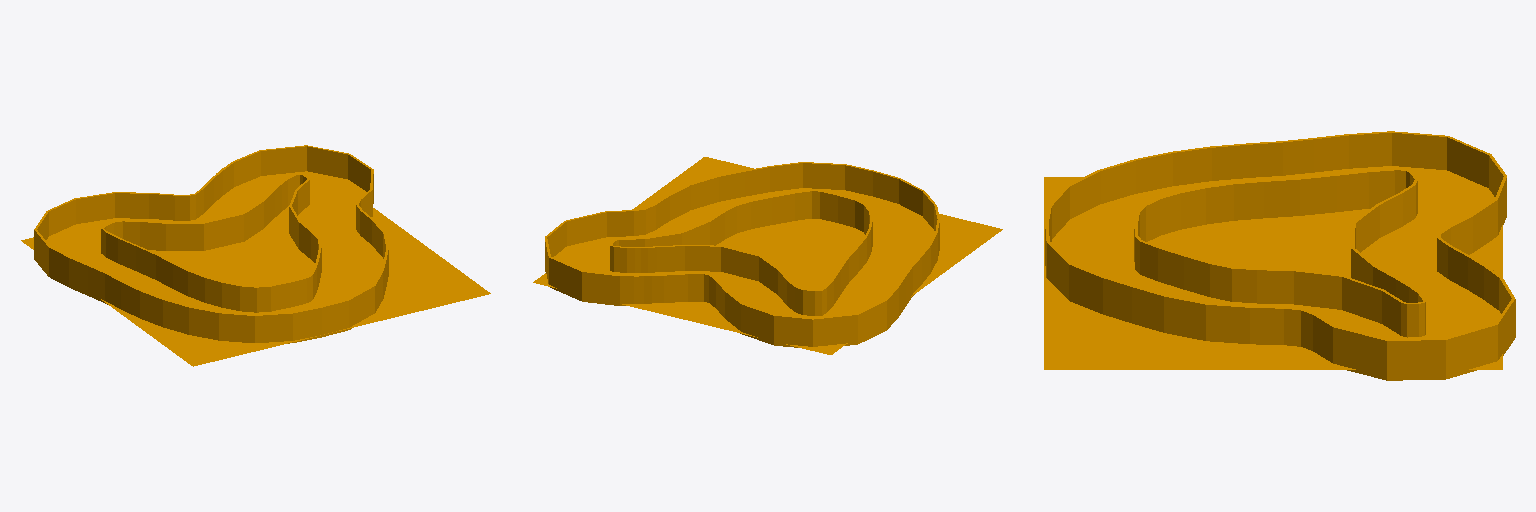
The robot description file, URDF, robot "track1":
<?xml version="1.0"?>
<robot name="track1">
  <link name="base_link">
   <visual>
     <origin xyz="0 0 0" rpy="0 0 0" />
       <geometry>
        <mesh filename="package://aupol_gazebo/models/track1/meshes/track1.dae"/>
      </geometry>
   </visual>
   <collision>
     <origin xyz="0.0 0.0 0.0" rpy="0 0 0" />
     <geometry>
      <mesh filename="package://aupol_gazebo/models/track1/meshes/track1.dae"/>
    </geometry>
    </collision>
  </link>
</robot>

--- Render facts (derived) ---
3 views of the same robot in one strip: view 1: azimuth 30°, elevation 25°; view 2: azimuth 150°, elevation 25°; view 3: azimuth 270°, elevation 25° (orthographic).
Model track1 with 1 links and 0 joints (none), rooted at base_link, posed all joints at 0.
Visible links, largest first — view 1: base_link; view 2: base_link; view 3: base_link.
Link boxes in pixels (x1,y1,x2,y2): base_link: (21,145,490,366); base_link: (533,157,1002,354); base_link: (1044,131,1515,380).
Size in the robot's own frame: 5.42 by 5.14 by 0.4772 metres.
Meshes: 1 distinct files referenced, 1 mesh visuals loaded (1 Collada DAE).
